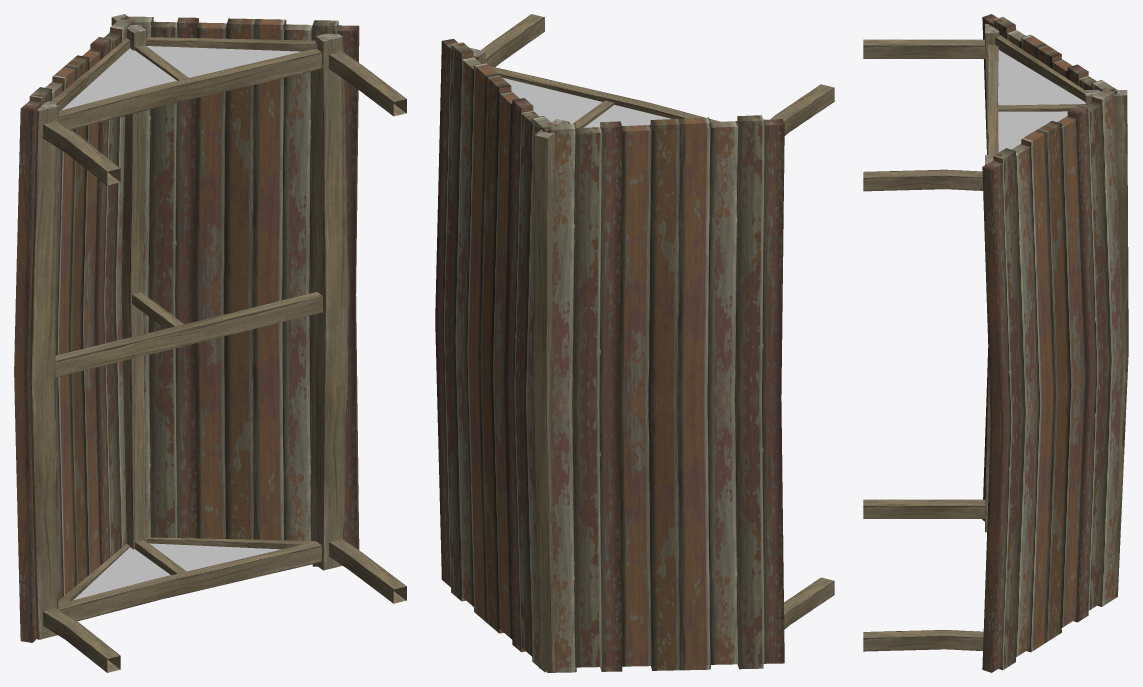
File: Tent_D.fbx
The picture shows the model from 3 angles, left to right: view 1: azimuth 30°, elevation 25°; view 2: azimuth 150°, elevation 25°; view 3: azimuth 270°, elevation 25°; orthographic projection. The views are drawn at different scales.
Parts seen in each view (by area): view 1: Tent_D; view 2: Tent_D; view 3: Tent_D.
Boxes of the visible parts, <box> form: Tent_D: <box>14,14,406,672</box>; Tent_D: <box>435,14,834,672</box>; Tent_D: <box>863,14,1128,672</box>.
Size of the model in its own units: 8.17 by 12.35 by 5.81.
